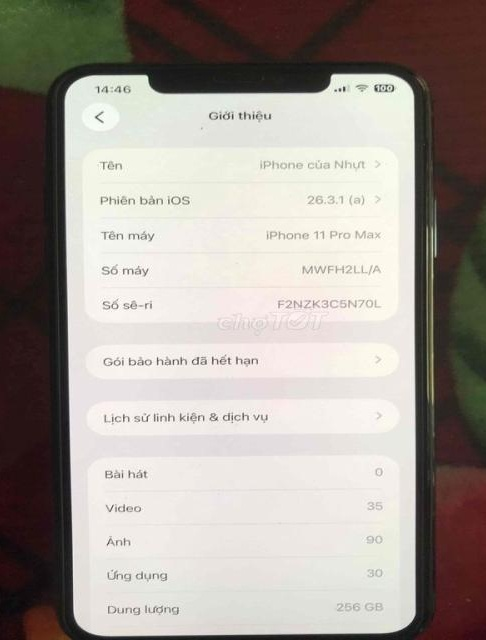scratch: (413, 137, 435, 161)
